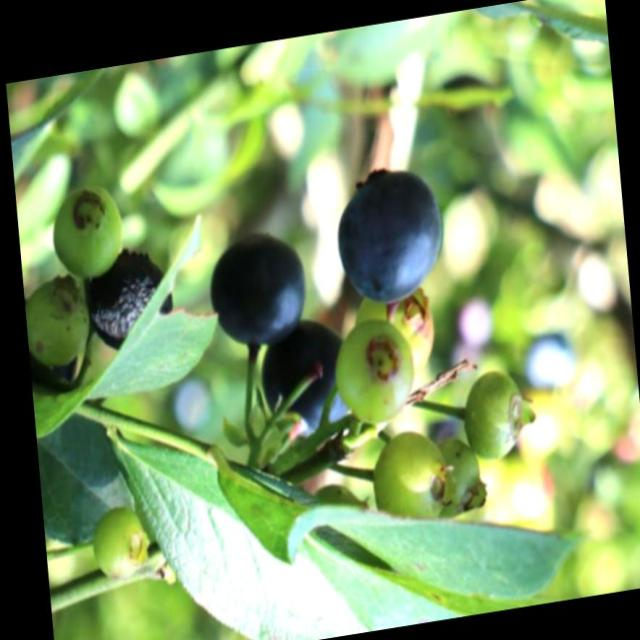blueberry: (332, 156, 452, 310), (249, 316, 356, 446), (205, 228, 314, 353), (82, 245, 180, 359)
blueberry-unripe: (334, 316, 414, 426), (368, 426, 451, 531), (356, 284, 436, 382), (50, 182, 125, 284), (22, 269, 91, 375), (462, 363, 528, 459), (88, 500, 148, 582), (434, 438, 486, 522)
